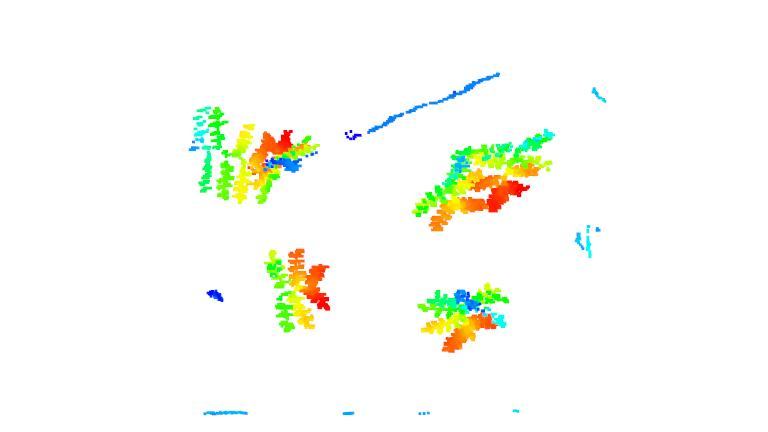chickpea: (460, 126, 559, 212), (181, 101, 263, 200), (419, 280, 510, 354), (265, 244, 333, 335), (415, 155, 487, 232), (257, 123, 322, 204)
